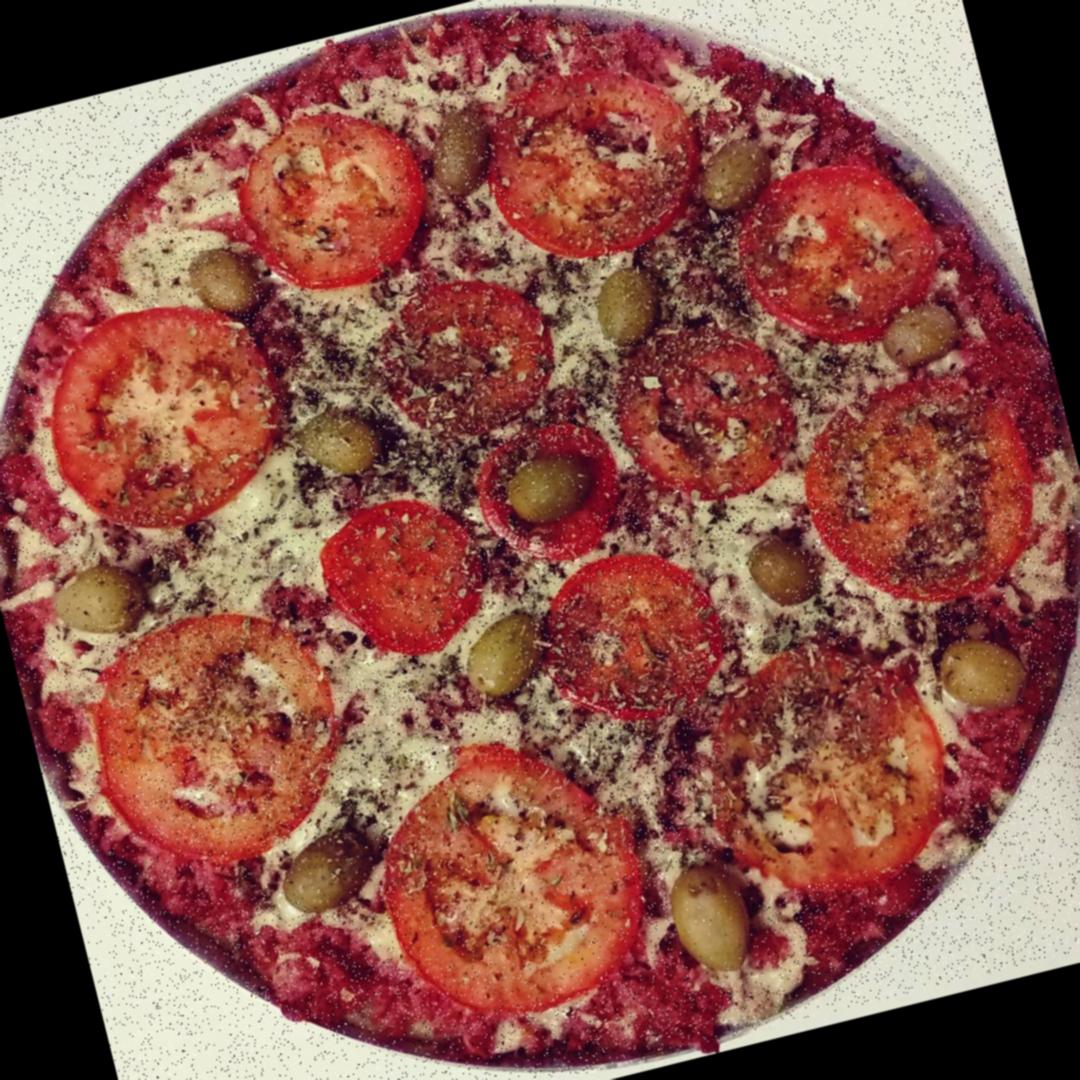Olives: (663, 851, 770, 990), (922, 619, 1040, 735), (40, 551, 168, 653), (264, 820, 389, 920), (456, 601, 566, 714), (287, 392, 403, 494), (407, 104, 506, 214), (502, 438, 608, 535), (735, 518, 834, 621), (178, 237, 276, 334), (587, 252, 679, 350), (877, 291, 971, 382), (691, 133, 784, 218)
Pepperoni: (520, 530, 743, 740), (355, 252, 579, 455), (602, 304, 814, 516), (294, 481, 504, 679)
Pizza: (0, 0, 1080, 1080)
Tomatoes: (72, 594, 364, 882), (370, 730, 654, 1026), (29, 283, 300, 552), (788, 353, 1054, 623), (703, 628, 968, 898), (470, 42, 722, 274), (224, 90, 448, 314), (729, 140, 955, 360)
